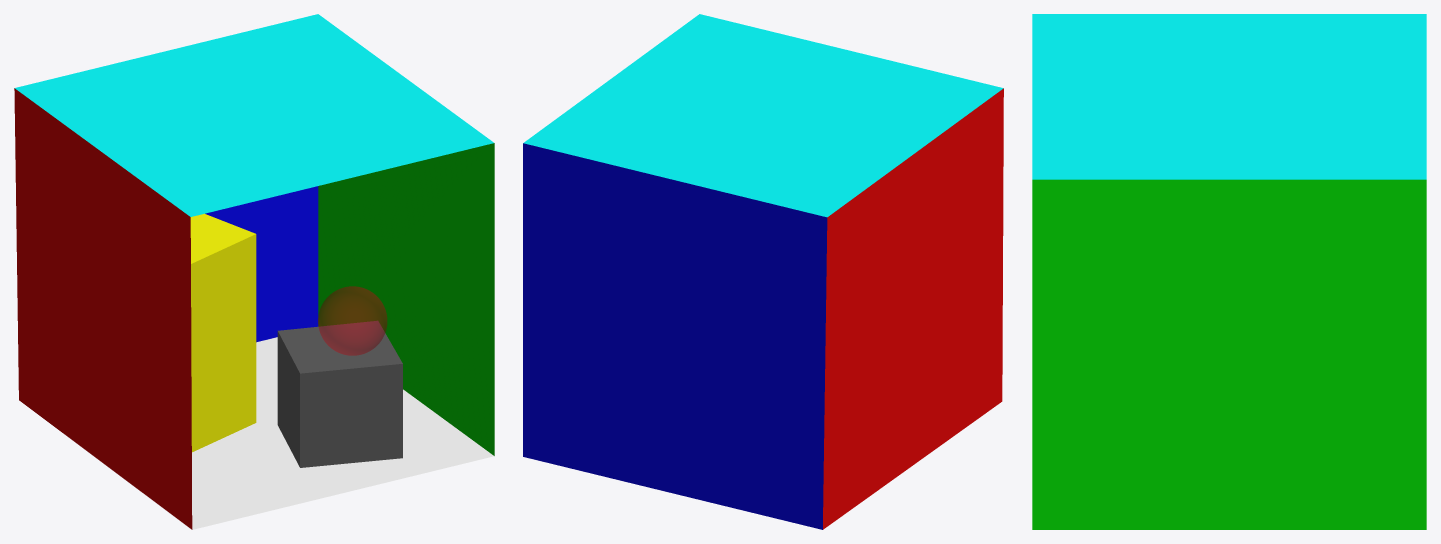
File: cornell_pbr.gltf
The picture shows the model from 3 angles, left to right: view 1: azimuth 30°, elevation 25°; view 2: azimuth 150°, elevation 25°; view 3: azimuth 270°, elevation 25°; orthographic projection. The views are drawn at different scales.
Parts seen in each view (by area): view 1: cornell.001, Sphere; view 2: cornell.001; view 3: cornell.001.
Boxes of the visible parts, left/top/right/bottom form: cornell.001: left=14, top=14, right=494, bottom=529; Sphere: left=318, top=286, right=386, bottom=355; cornell.001: left=523, top=14, right=1003, bottom=529; cornell.001: left=1032, top=14, right=1426, bottom=529.
Bounding box in the file's own units: 2.02 × 1.99 × 2.03.
